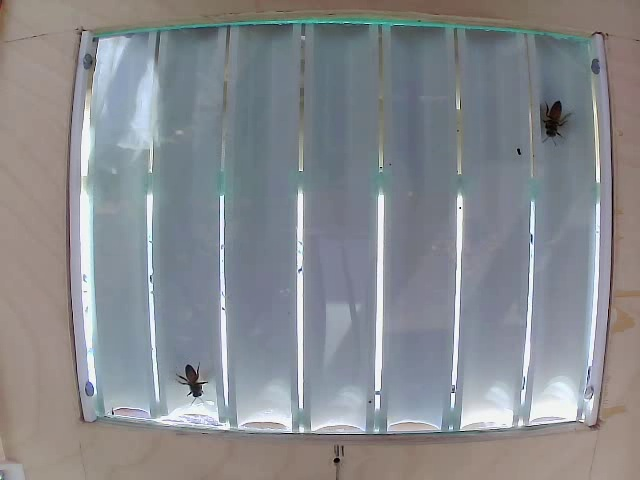bee: (170, 365, 223, 404), (535, 99, 564, 147)
